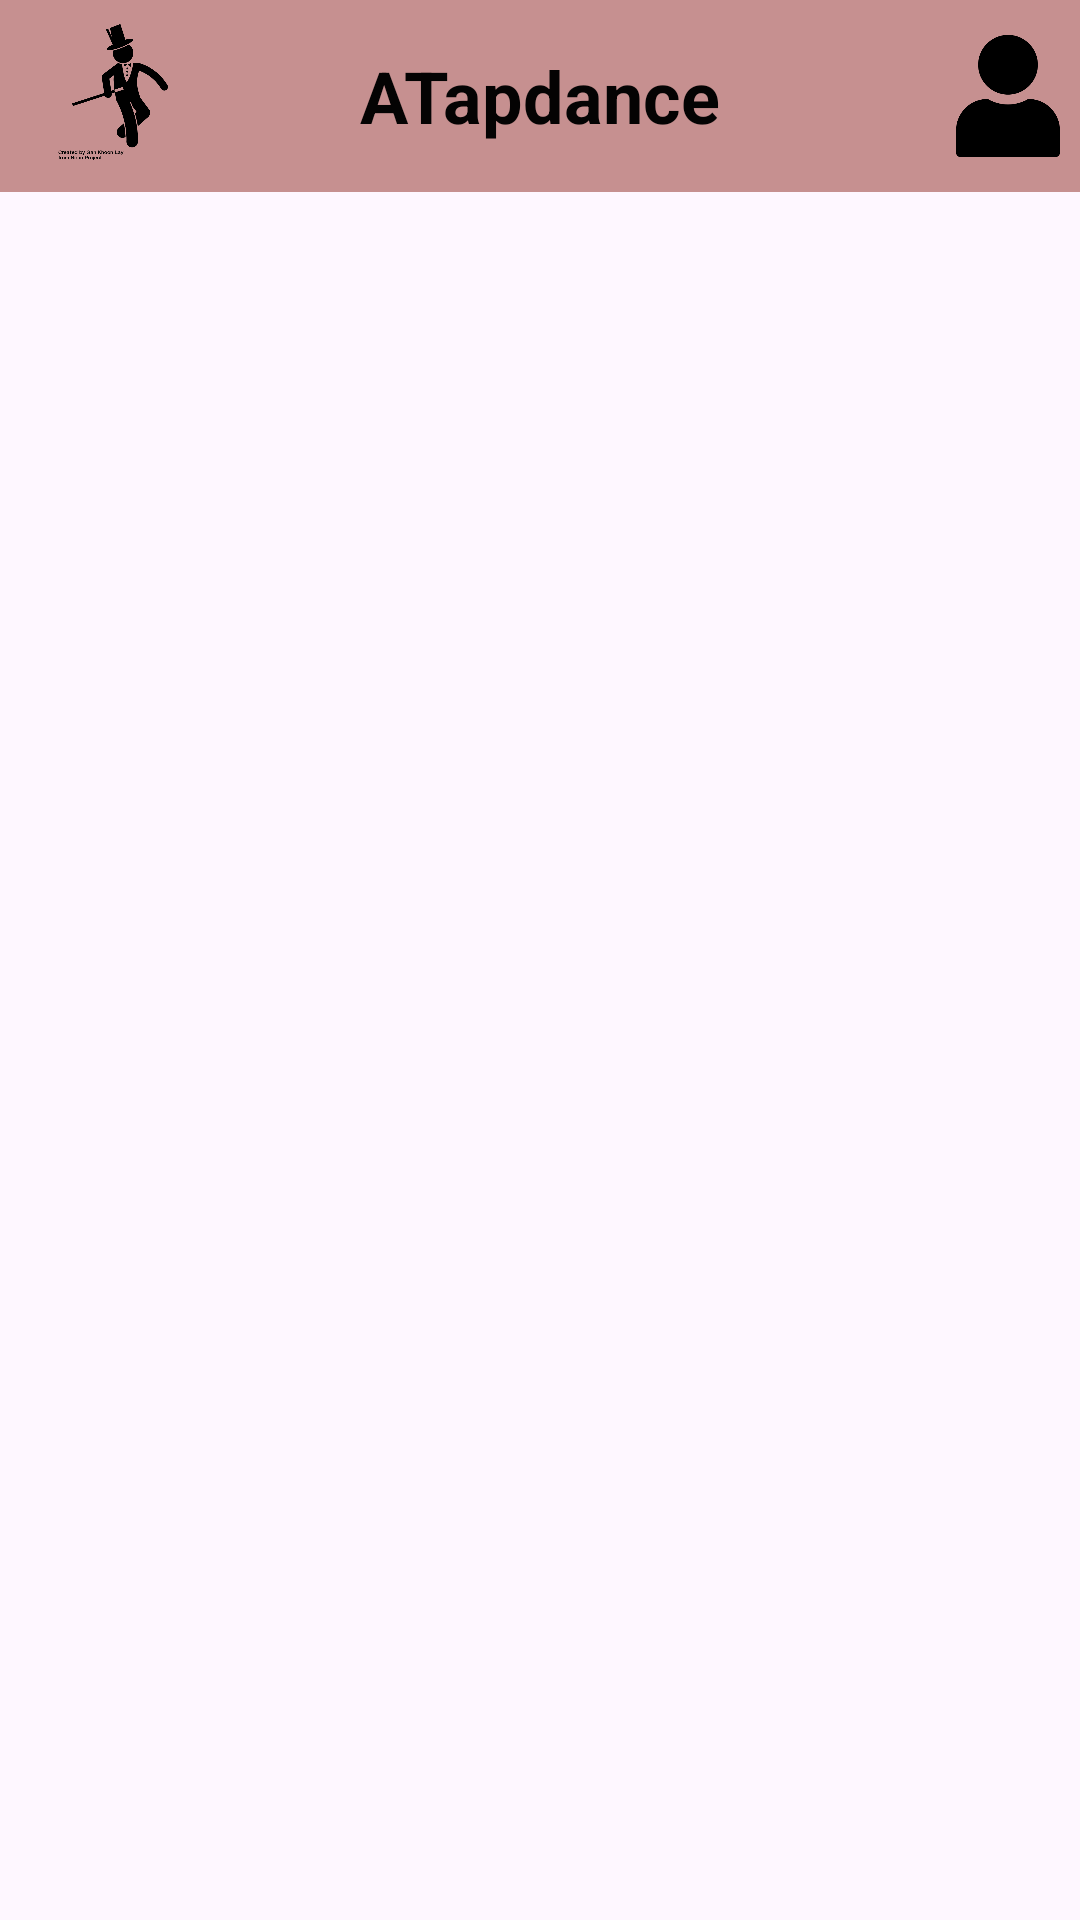

Icon bounding boxes for this 1080px×1920px phone screenshot, format box(x1, y1, x2, y2):
profile: box(956, 35, 1060, 157)
tap dance: box(58, 24, 168, 160)
